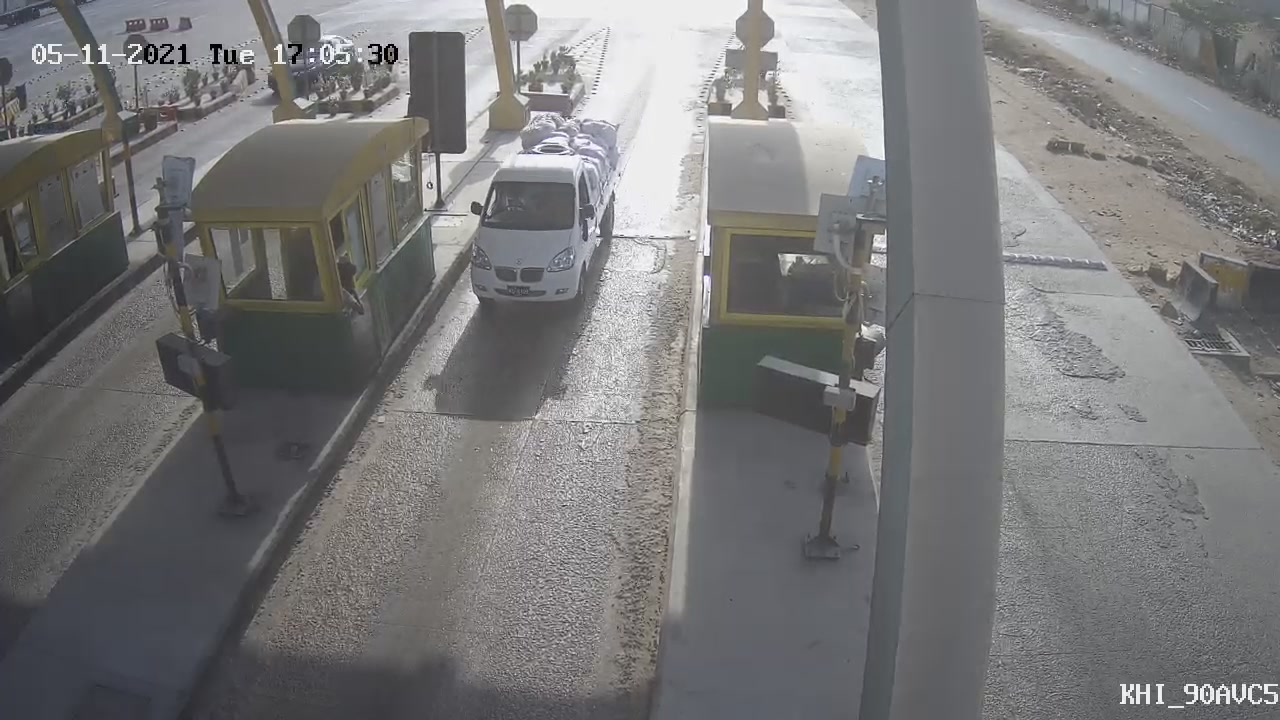F2: (444, 94, 644, 338)
